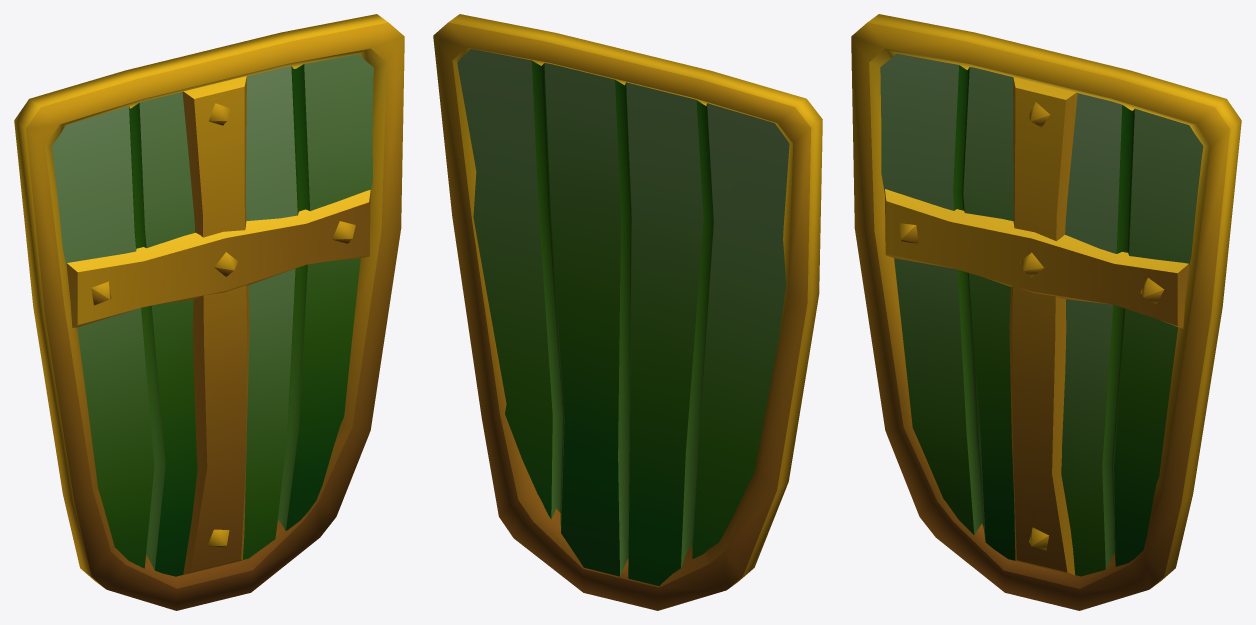
The model's file is Shield1h_10.fbx.
The picture shows the model from 3 angles, left to right: view 1: azimuth 30°, elevation 25°; view 2: azimuth 150°, elevation 25°; view 3: azimuth 330°, elevation 25°; orthographic projection.
Parts seen in each view (by area): view 1: Shield1h_10; view 2: Shield1h_10; view 3: Shield1h_10.
Part boxes in pixels (bbox=[...]): Shield1h_10: bbox=[14, 14, 404, 610]; Shield1h_10: bbox=[433, 14, 822, 610]; Shield1h_10: bbox=[851, 14, 1241, 610].
Size of the model in its own units: 51.56 by 70.52 by 7.46.
